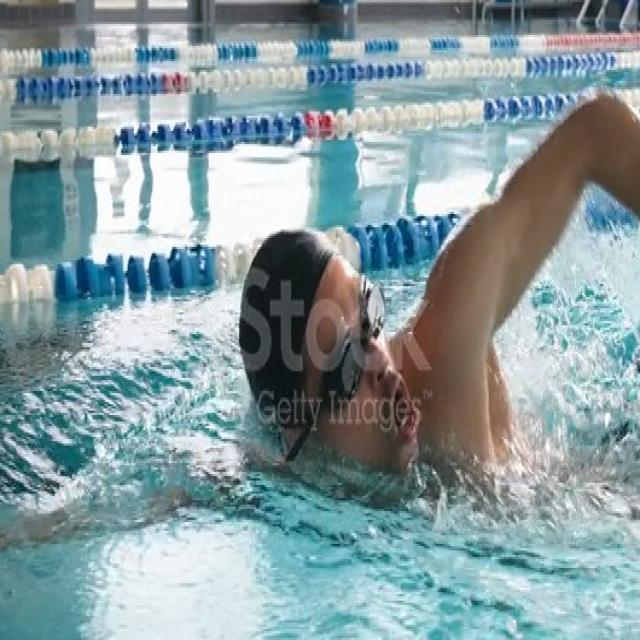Swimming: (233, 92, 640, 507)
